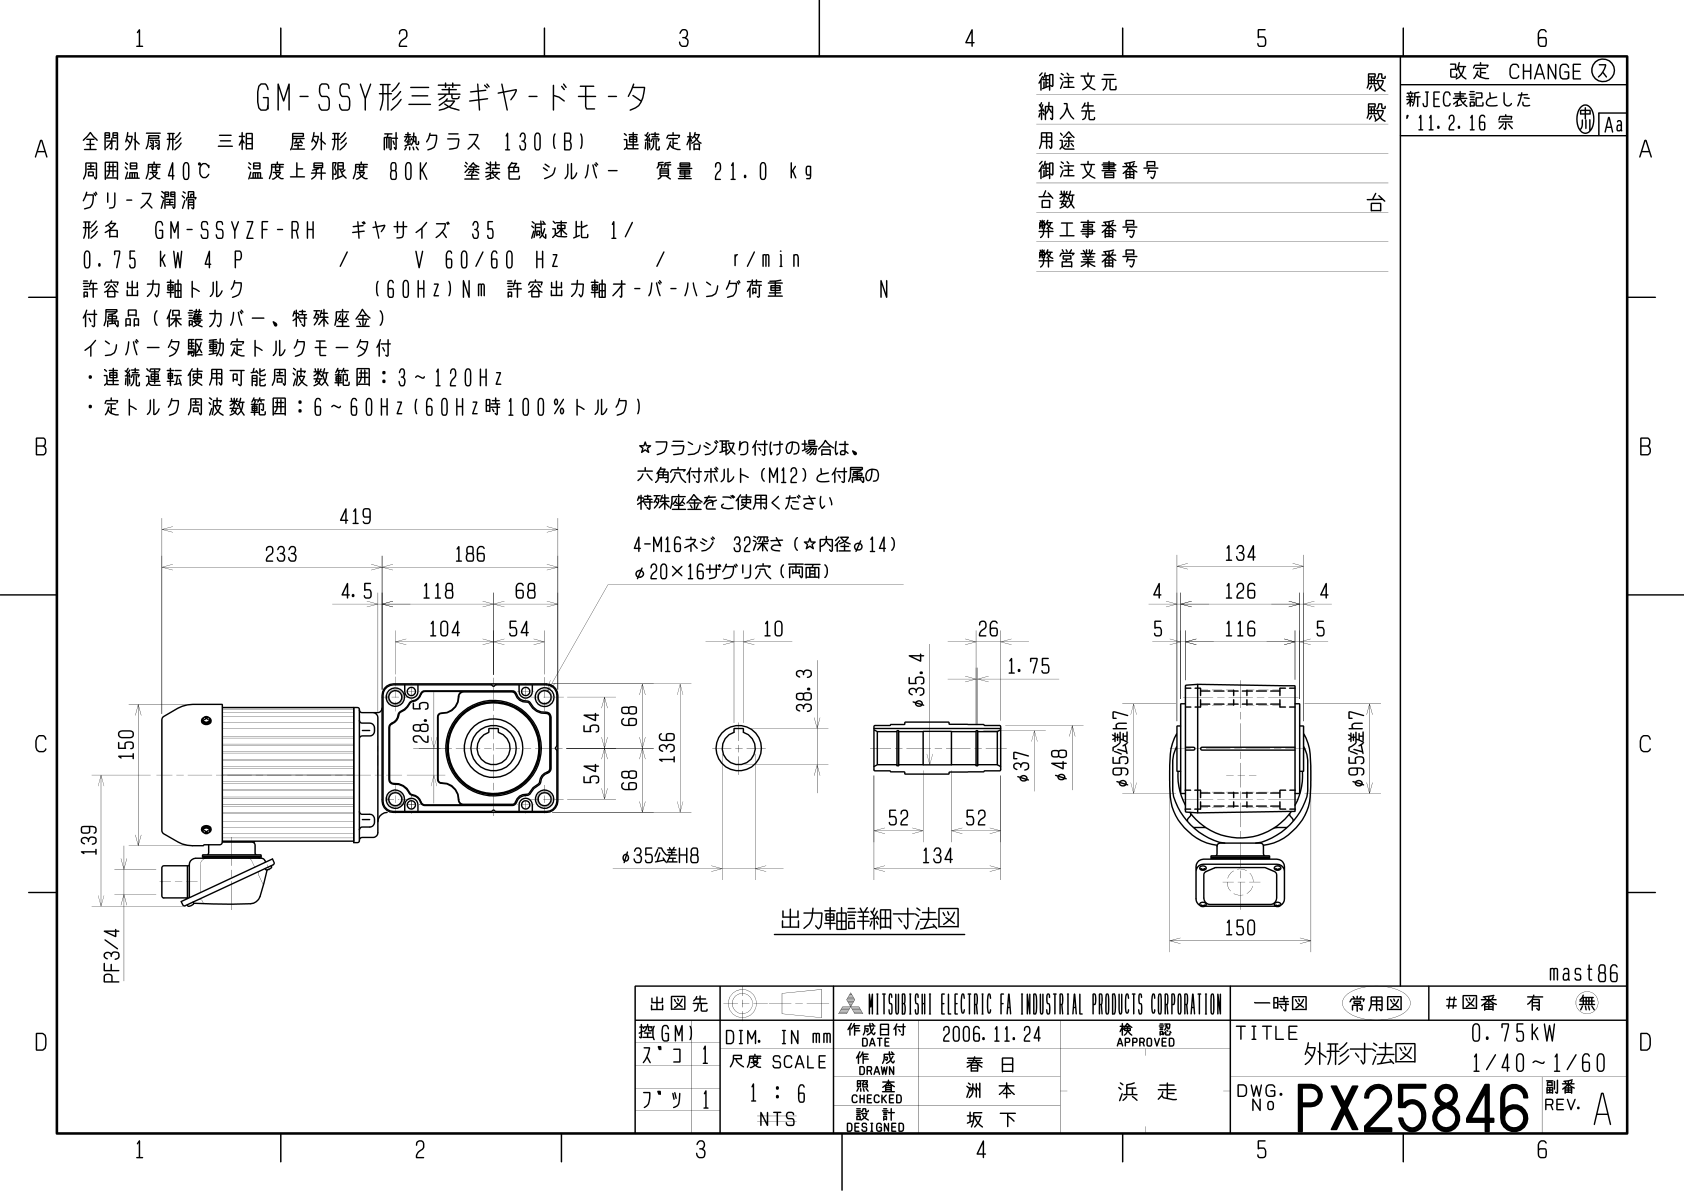GM_SSY_インバータ屋外_三相: (1, 1, 1669, 1172)
